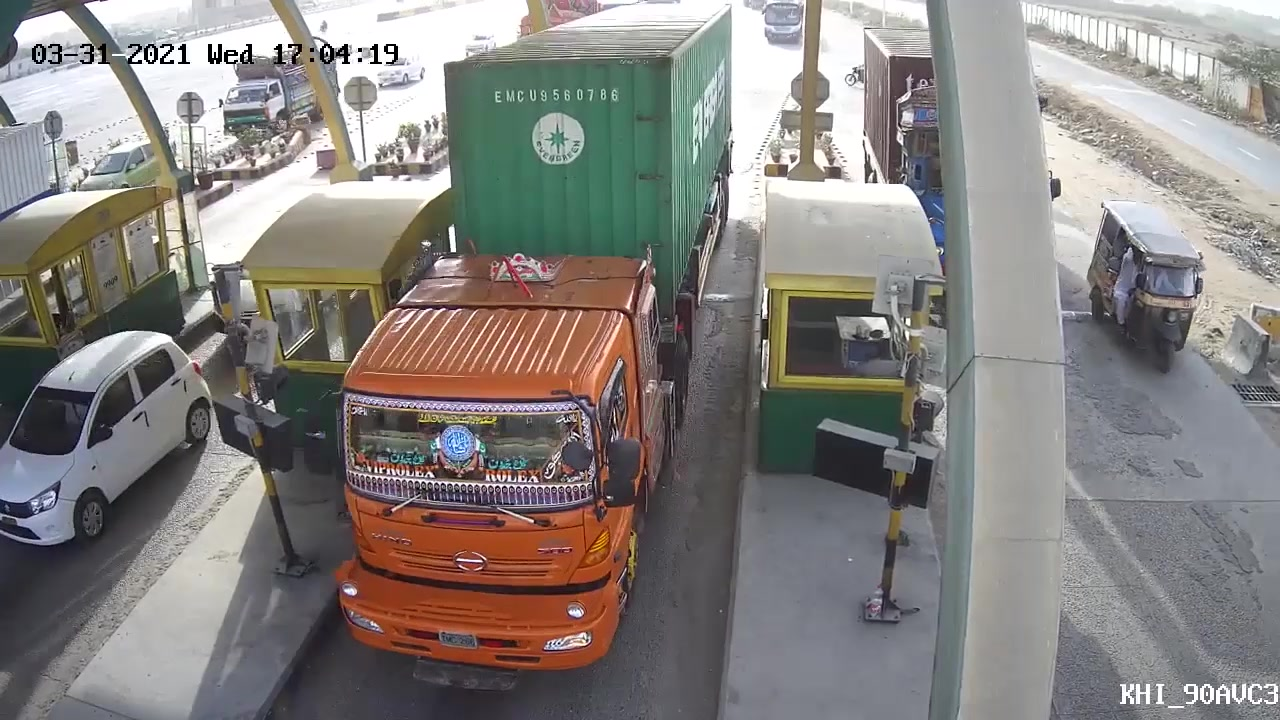F6: (321, 1, 730, 690)
